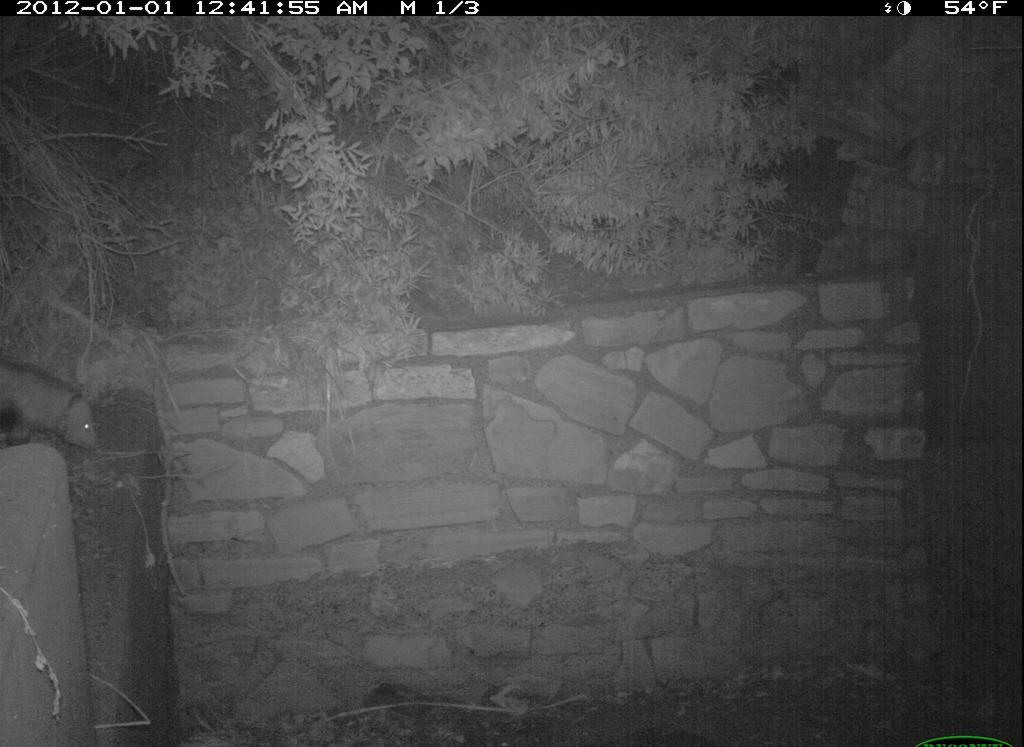opossum: (3, 348, 106, 463)
